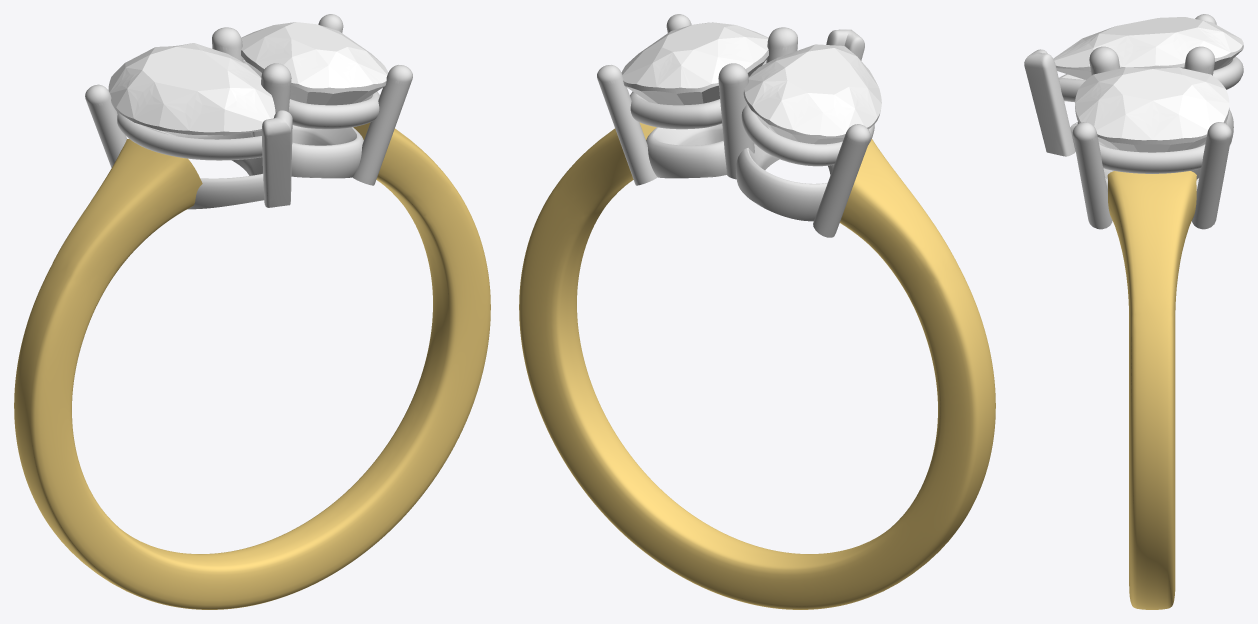
Rendered from toietmoi_webgi.glb.
3 views of the same model, side by side, from view 1: azimuth 30°, elevation 25°; view 2: azimuth 150°, elevation 25°; view 3: azimuth 270°, elevation 25° (orthographic). The views are drawn at different scales.
Parts seen in each view (by area): view 1: michael_h_YG, michael_h_pt, michael_h_dia, michael_h_dia_light_brown; view 2: michael_h_YG, michael_h_pt, michael_h_dia, michael_h_dia_light_brown; view 3: michael_h_YG, michael_h_pt, michael_h_dia_light_brown, michael_h_dia.
Boxes of the visible parts, box(x1,y1,x2,y2) form: michael_h_YG: box(14, 122, 490, 609); michael_h_pt: box(85, 14, 412, 209); michael_h_dia: box(108, 43, 275, 138); michael_h_dia_light_brown: box(241, 22, 388, 105); michael_h_YG: box(519, 122, 995, 609); michael_h_pt: box(597, 14, 874, 237); michael_h_dia: box(743, 44, 881, 144); michael_h_dia_light_brown: box(621, 22, 768, 105); michael_h_YG: box(1107, 171, 1196, 609); michael_h_pt: box(1024, 14, 1243, 229); michael_h_dia_light_brown: box(1075, 66, 1229, 152); michael_h_dia: box(1053, 17, 1243, 79).
Bounding box in the file's own units: 2.54 × 2.9 × 1.07.
